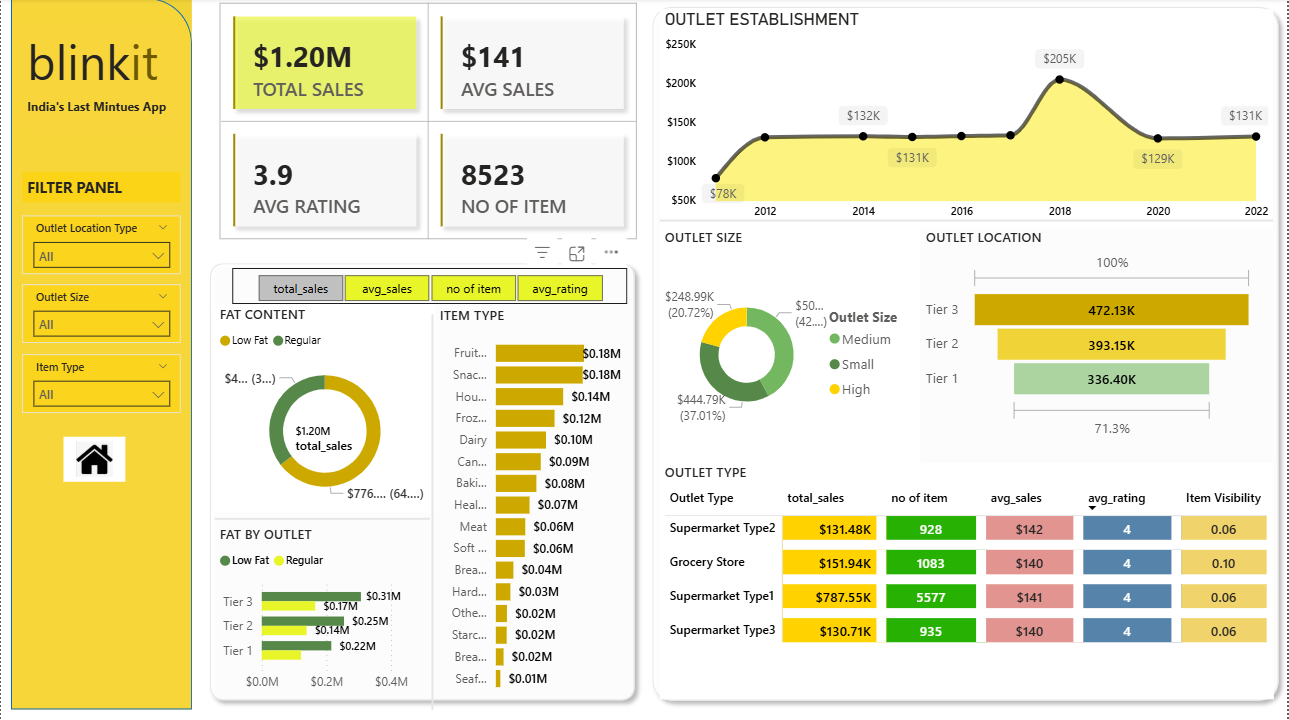

The dashboard page shown, as its layout file describes it:
{"tool":"powerbi","page":{"name":"Page 1","canvas":[1280,720],"ordinal":0},"visuals":[{"type":"shape","box":[9.7,0,180.1,708],"z":0},{"type":"textbox","box":[20.6,24.7,157.8,89.2],"z":1000},{"type":"textbox","box":[20.6,93.3,157.8,41.2],"z":2000},{"type":"cardVisual","fields":{"Data":["blinkit.total_sales","blinkit.avg_sales","blinkit.avg_rating","blinkit.no of item"]},"box":[212.7,0,426.8,245.6],"z":3000},{"type":"shape","box":[199,255.2,440.5,452.8],"z":4000},{"type":"donutChart","title":"FAT CONTENT","fields":{"Y":["blinkit.total_sales"],"Category":["blinkit.Item Fat Content"]},"box":[212.7,304.6,219.6,207.2],"z":5000},{"type":"slicer","fields":{"Values":["metrics.metrics"]},"box":[230.5,269,392.5,35.7],"z":6000},{"type":"cardVisual","fields":{"Data":["blinkit.total_sales"]},"box":[275.8,406.2,93.3,60.4],"z":7000},{"type":"clusteredBarChart","title":"FAT BY OUTLET","fields":{"Y":["blinkit.total_sales"],"Category":["blinkit.Outlet Location Type"],"Series":["blinkit.Item Fat Content"]},"box":[212.7,524.2,207.2,174.3],"z":8000},{"type":"shape","box":[212.7,502.2,214.1,31.6],"z":9000},{"type":"shape","box":[426.8,314.2,5.5,393.8],"z":10000},{"type":"clusteredBarChart","title":"ITEM TYPE","fields":{"Y":["blinkit.total_sales"],"Category":["blinkit.Item Type"]},"box":[432.2,306,190.7,393.8],"z":11000},{"type":"shape","box":[639.5,0,640.8,708.1],"z":12000},{"type":"lineChart","title":"OUTLET ESTABLISHMENT","fields":{"Y":["blinkit.total_sales"],"Category":["blinkit.Outlet Establishment Year"]},"box":[655.9,11,610.6,218.2],"z":13000},{"type":"shape","box":[655.9,214.1,610.6,15.1],"z":14000},{"type":"donutChart","title":"OUTLET SIZE","fields":{"Category":["blinkit.Outlet Size"],"Y":["blinkit.total_sales"]},"box":[655.9,229.2,259.3,234.6],"z":15000},{"type":"funnel","title":"OUTLET LOCATION","fields":{"Y":["Sum(blinkit.Sales)"],"Category":["blinkit.Outlet Location Type"]},"box":[915.3,229.2,336.2,214.1],"z":16000},{"type":"pivotTable","title":"OUTLET TYPE","fields":{"Rows":["blinkit.Outlet Type"],"Values":["blinkit.total_sales","blinkit.no of item","blinkit.avg_sales","blinkit.avg_rating","Avg(blinkit.Item Visibility)"]},"box":[655.4,462.8,611,235.5],"z":17000},{"type":"slicer","fields":{"Values":["blinkit.Outlet Location Type"]},"box":[20.8,216.2,158,58.2],"z":18000},{"type":"slicer","fields":{"Values":["blinkit.Outlet Size"]},"box":[20.8,285.4,158,58.2],"z":19000},{"type":"slicer","fields":{"Values":["blinkit.Item Type"]},"box":[20.8,354.7,158,58.2],"z":20000},{"type":"textbox","box":[20.8,173.2,158,30.5],"z":21000},{"type":"image","box":[62.7,436.7,61.5,44.6],"z":22000}]}

Visuals, with their boxes in screenshot pixels (x1, y1, x2, y2), scaled from the page's 1280x720 canvas onto the 1289x720 screenshot:
shape: (left=10, top=0, right=191, bottom=708)
textbox: (left=21, top=25, right=180, bottom=114)
textbox: (left=21, top=93, right=180, bottom=134)
cardVisual - blinkit.total_sales x blinkit.avg_sales: (left=214, top=0, right=644, bottom=246)
shape: (left=200, top=255, right=644, bottom=708)
"FAT CONTENT" donutChart: (left=214, top=305, right=435, bottom=512)
slicer - metrics.metrics: (left=232, top=269, right=627, bottom=305)
cardVisual - blinkit.total_sales: (left=278, top=406, right=372, bottom=467)
"FAT BY OUTLET" clusteredBarChart: (left=214, top=524, right=423, bottom=698)
shape: (left=214, top=502, right=430, bottom=534)
shape: (left=430, top=314, right=435, bottom=708)
"ITEM TYPE" clusteredBarChart: (left=435, top=306, right=627, bottom=700)
shape: (left=644, top=0, right=1288, bottom=708)
"OUTLET ESTABLISHMENT" lineChart: (left=661, top=11, right=1275, bottom=229)
shape: (left=661, top=214, right=1275, bottom=229)
"OUTLET SIZE" donutChart: (left=661, top=229, right=922, bottom=464)
"OUTLET LOCATION" funnel: (left=922, top=229, right=1260, bottom=443)
"OUTLET TYPE" pivotTable: (left=660, top=463, right=1275, bottom=698)
slicer - blinkit.Outlet Location Type: (left=21, top=216, right=180, bottom=274)
slicer - blinkit.Outlet Size: (left=21, top=285, right=180, bottom=344)
slicer - blinkit.Item Type: (left=21, top=355, right=180, bottom=413)
textbox: (left=21, top=173, right=180, bottom=204)
image: (left=63, top=437, right=125, bottom=481)
